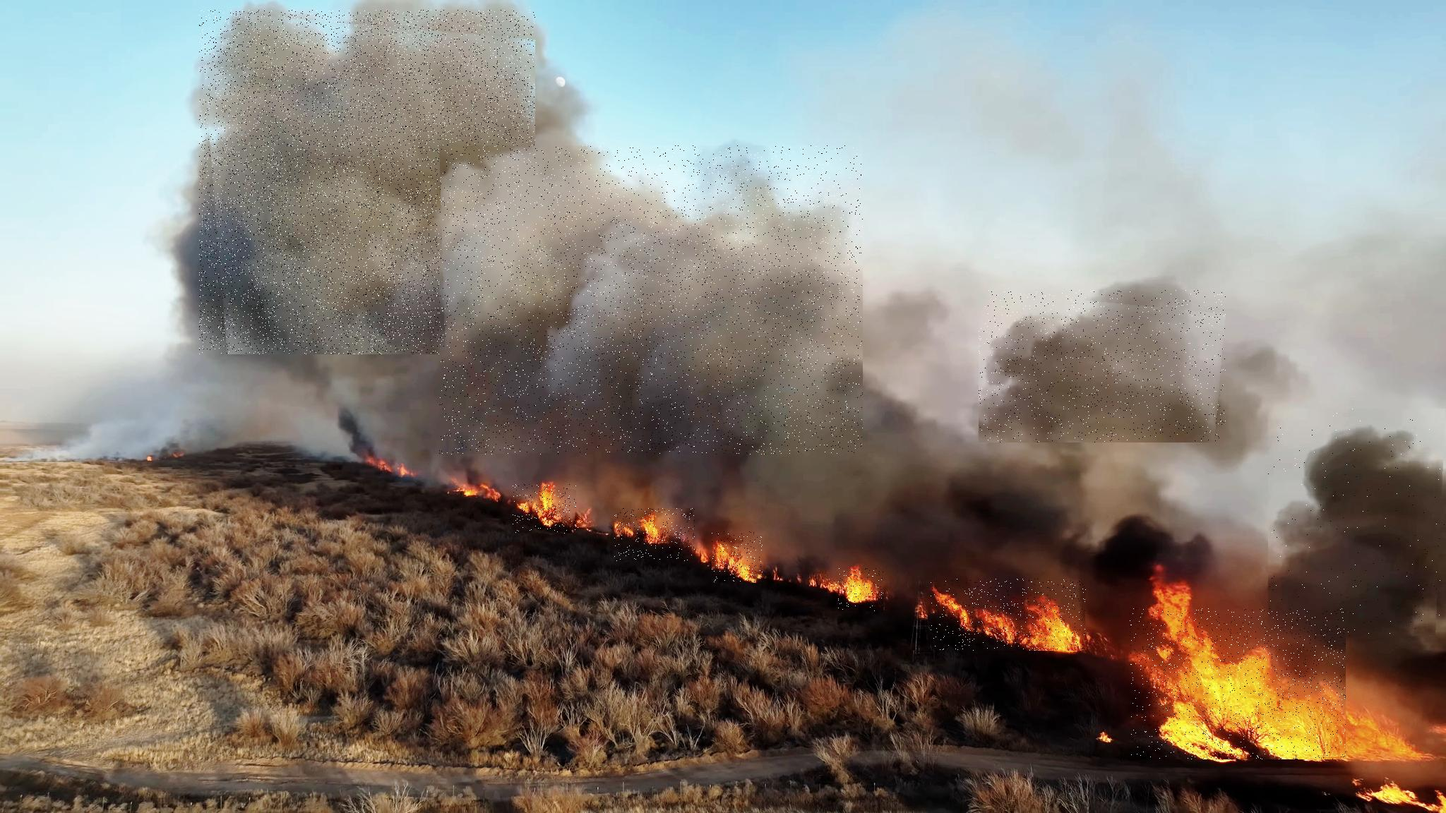fire: (1130, 608, 1346, 759), (931, 579, 1086, 651), (614, 508, 695, 562), (513, 484, 576, 533), (712, 531, 763, 583), (838, 567, 883, 611)
smoke: (439, 145, 863, 454), (199, 10, 535, 354), (1268, 409, 1446, 644), (979, 290, 1226, 442)
